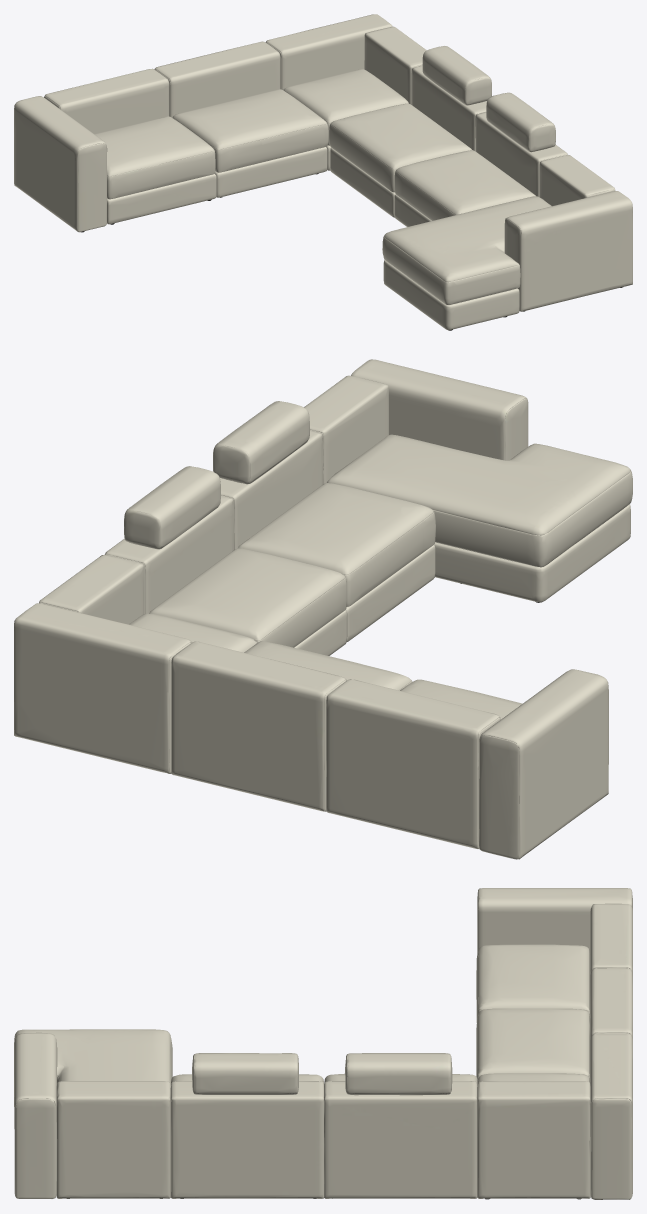
File: 27 - JÄTTEBO U-shaped sofa, 7-seat - with chaise longue, right with headrestsAxvall off-white.glb
3 views of the same model, one above another, from view 1: azimuth 30°, elevation 25°; view 2: azimuth 150°, elevation 25°; view 3: azimuth 270°, elevation 25° (orthographic). The views are drawn at different scales.
Parts seen in each view (by area): view 1: Box157; view 2: Box157; view 3: Box157.
Boxes of the visible parts, left/top/right/bottom form: Box157: left=14, top=14, right=632, bottom=330; Box157: left=14, top=359, right=632, bottom=859; Box157: left=14, top=888, right=632, bottom=1199.
Size of the model in its own units: 3.1 by 0.9163 by 3.8.
1 material, 1 textured.
